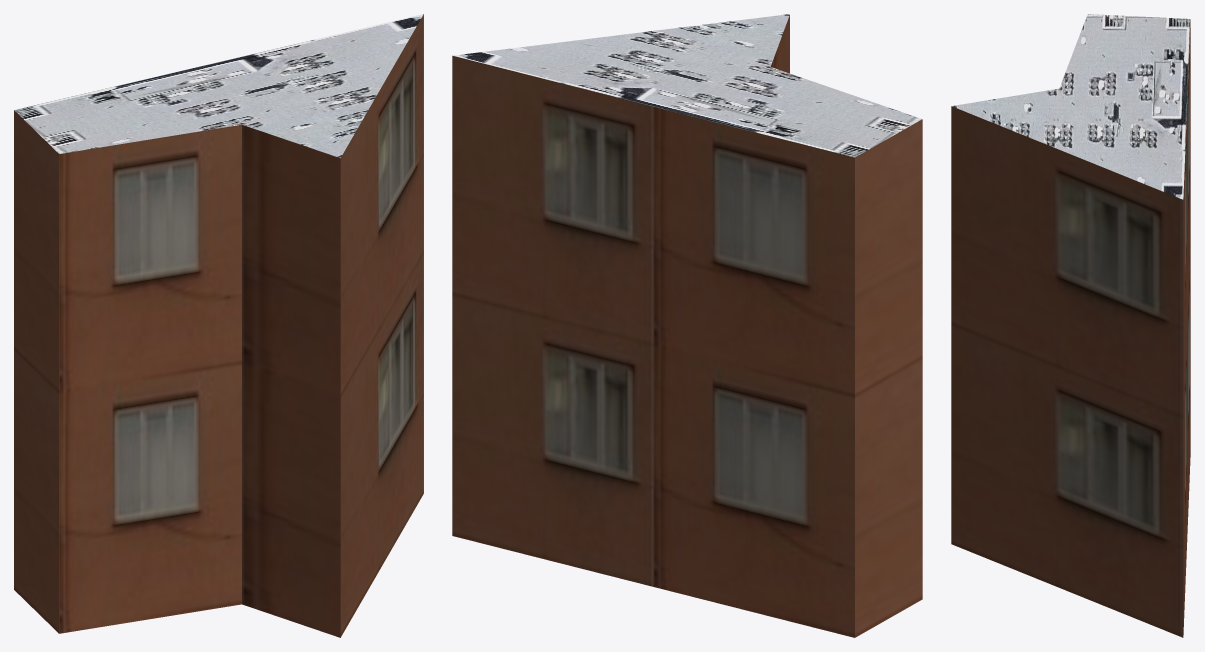
File: ResTex__3977.fbx
3 views of the same model, side by side, from view 1: azimuth 30°, elevation 25°; view 2: azimuth 150°, elevation 25°; view 3: azimuth 270°, elevation 25° (orthographic). The views are drawn at different scales.
Visible parts, largest first — view 1: CityEngineMaterial_20_m, CityEngineMaterial_m; view 2: CityEngineMaterial_20_m, CityEngineMaterial_m; view 3: CityEngineMaterial_20_m, CityEngineMaterial_m.
Part boxes in pixels (x1,y1,x2,y2): CityEngineMaterial_20_m: (14, 14, 423, 637); CityEngineMaterial_m: (14, 14, 423, 157); CityEngineMaterial_20_m: (452, 15, 922, 637); CityEngineMaterial_m: (453, 14, 921, 157); CityEngineMaterial_20_m: (951, 20, 1190, 637); CityEngineMaterial_m: (951, 14, 1190, 199).
Size of the model in its own units: 5.46 by 6 by 2.97.
2 materials, 2 textured.
